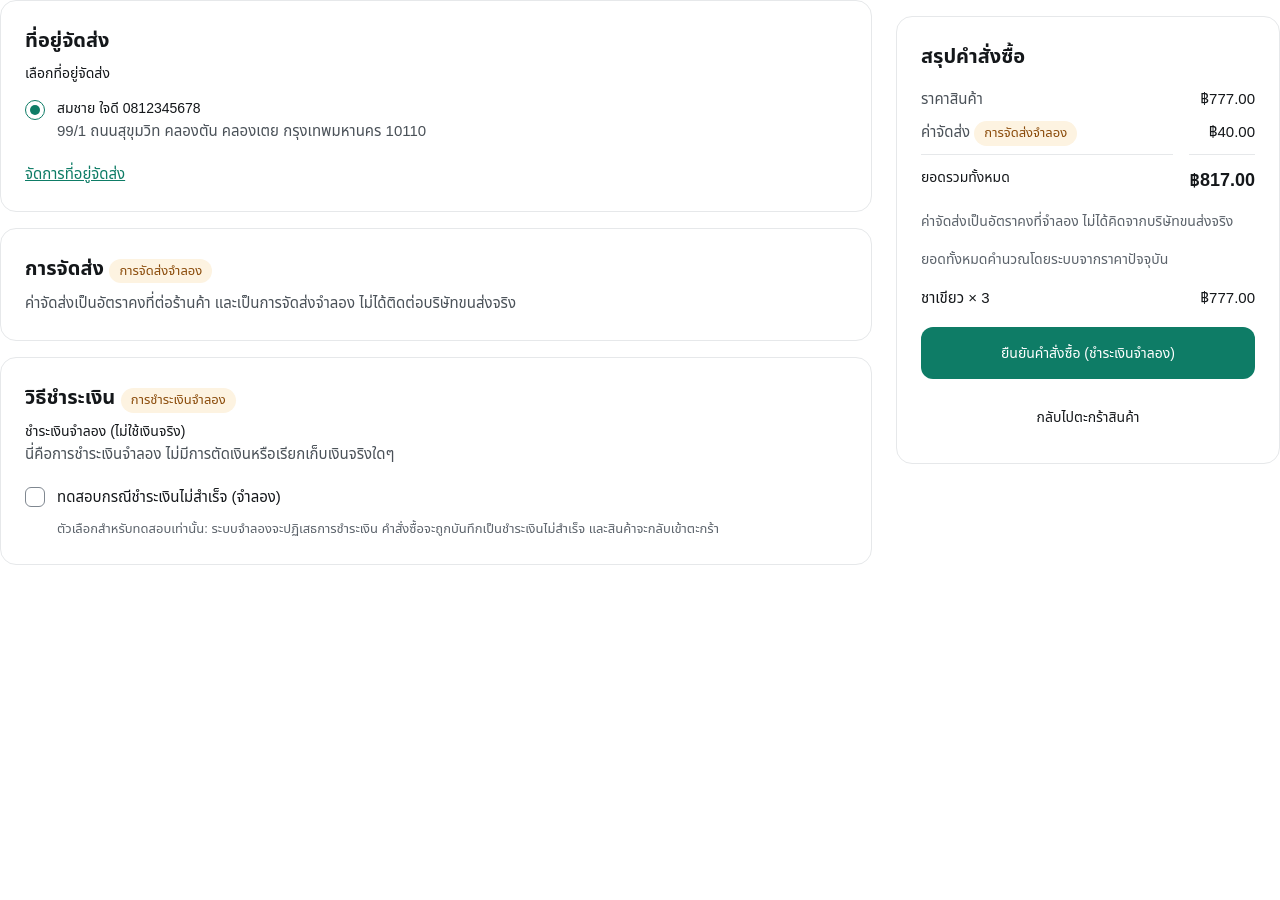
Scenario: CheckoutView submit › refreshes the page when the chosen address no longer exists
Click the button "ยืนยันคำสั่งซื้อ (ชำระเงินจำลอง)" at (1088, 353), box [921, 327, 1255, 379]
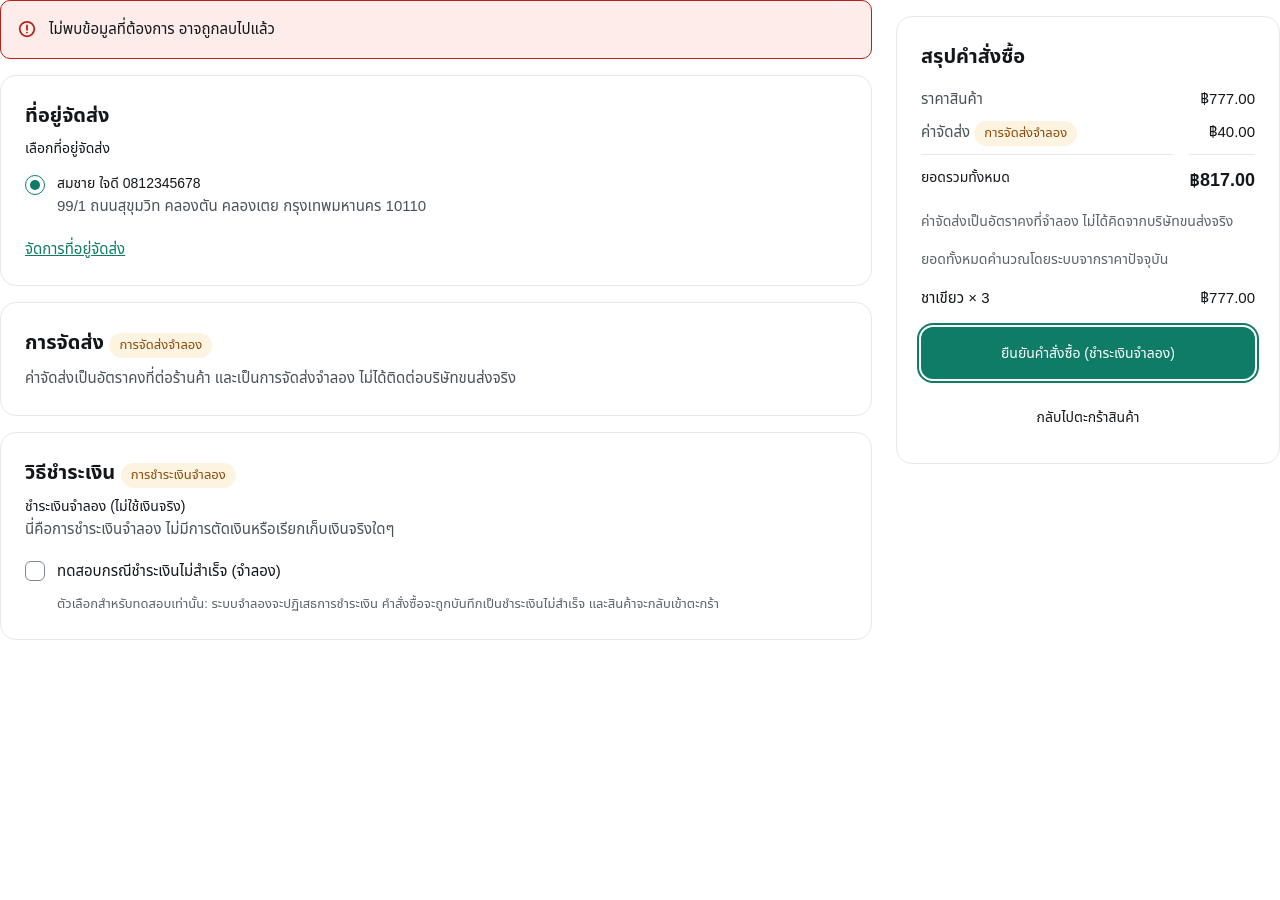
Now the text "ไม่พบข้อมูลที่ต้องการ อาจถูกลบไปแล้ว" is shown, box [49, 20, 275, 37]
